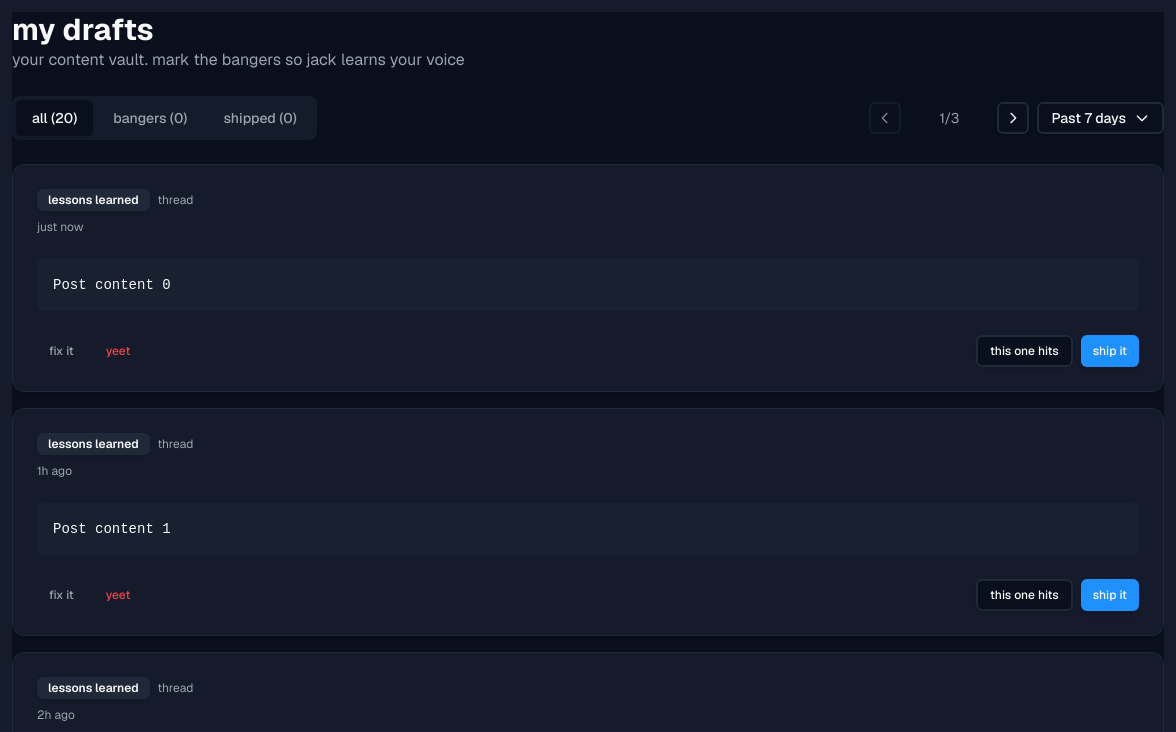
Test: Posts List - Pagination Integration › Page Navigation › should navigate to previous page when prev button is clicked
This screenshot has width=1176, height=732.
Click the button named "Next page" at (1013, 118), box [997, 102, 1029, 134]
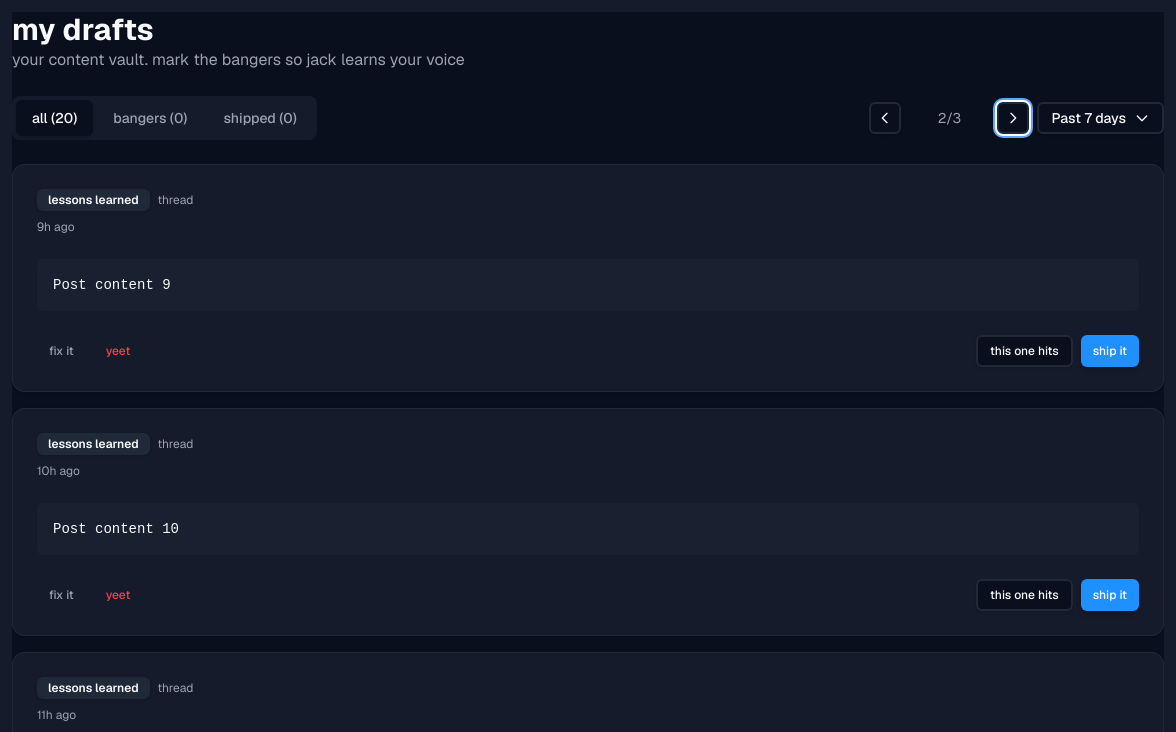
Expected: the text "2/3" is shown, [938, 109, 961, 127]
Click the button named "Previous page" at (885, 118), box [869, 102, 901, 134]
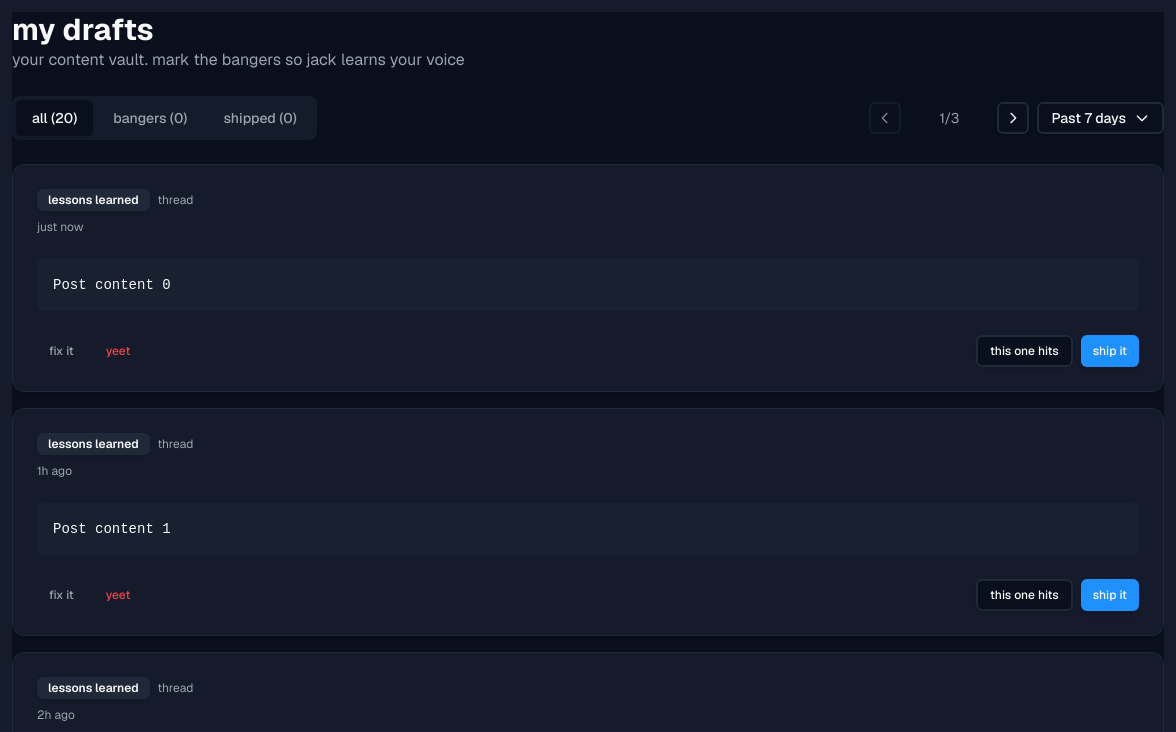
Expected: the text "1/3" is shown, [940, 109, 959, 127]
Expected: the text "Post content 0" is shown, [37, 259, 1139, 311]
